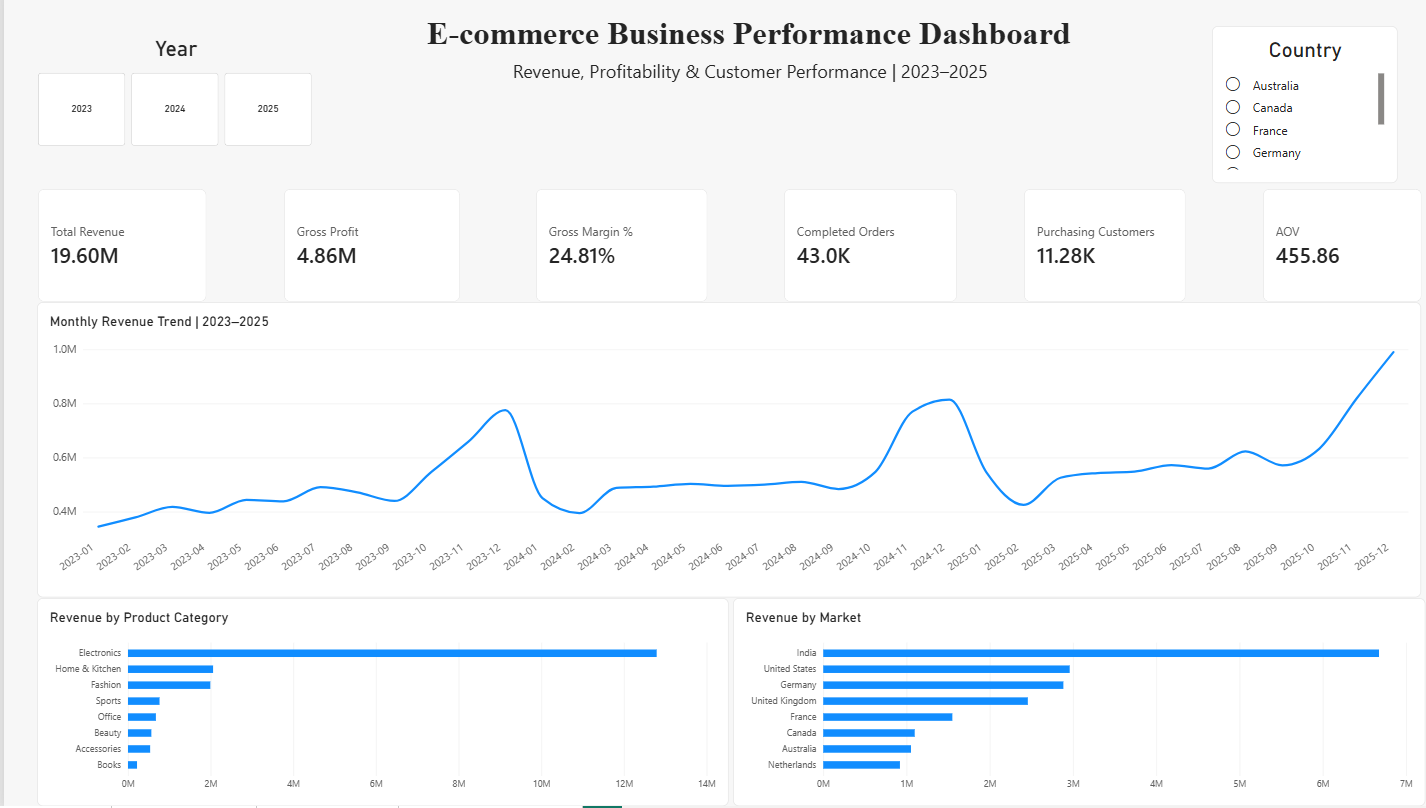

What the dashboard file says about the page in this screenshot:
{"tool":"powerbi","page":{"name":"Executive Overview","canvas":[1920,1080],"ordinal":0},"visuals":[{"type":"textbox","box":[435.5,27.4,1111.5,57.9],"z":0},{"type":"textbox","box":[589.2,85.3,807,62.4],"z":1000},{"type":"cardVisual","fields":{"Data":["_Measures.Total Revenue"]},"box":[45.4,259.4,224.7,150.3],"z":2000},{"type":"cardVisual","fields":{"Data":["_Measures.Gross Profit"]},"box":[372.2,259.4,234.9,150.3],"z":3000},{"type":"cardVisual","fields":{"Data":["_Measures.Gross Margin %"]},"box":[708,258.8,228.4,150.7],"z":4000},{"type":"cardVisual","fields":{"Data":["_Measures.Completed Orders"]},"box":[1037.5,259.4,230.5,150.3],"z":5000},{"type":"cardVisual","fields":{"Data":["_Measures.Purchasing Customers"]},"box":[1357,259.4,215.9,150.3],"z":6000},{"type":"cardVisual","fields":{"Data":["_Measures.AOV"]},"box":[1675.1,259.4,211.6,150.3],"z":7000},{"type":"lineChart","title":"Monthly Revenue Trend | 2023–2025","fields":{"Category":["DateTable.Year Month"],"Y":["_Measures.Total Revenue"]},"box":[44.2,409.6,1840.8,392.8],"z":8000},{"type":"barChart","title":"Revenue by Product Category","fields":{"Category":["products.category"],"Y":["_Measures.Total Revenue"]},"box":[44.2,802.9,919.7,277.1],"z":9000},{"type":"barChart","title":"Revenue by Market","fields":{"Category":["orders.shipping_country"],"Y":["_Measures.Total Revenue"]},"box":[969.9,802.9,921.2,277.1],"z":10000},{"type":"listSlicer","title":"Country","fields":{"Values":["orders.shipping_country"]},"box":[1606.3,42.6,246.7,208.6],"z":11000},{"type":"advancedSlicerVisual","fields":{"Values":["DateTable.Year"]},"box":[45.7,56.3,366.9,146.2],"z":12000}]}

Visuals, with their boxes in screenshot pixels (x1, y1, x2, y2), scaled from the page's 1920x1080 canvas onto the 1426x808 screenshot:
textbox: x1=323 y1=20 x2=1149 y2=64
textbox: x1=438 y1=64 x2=1037 y2=111
cardVisual - _Measures.Total Revenue: x1=34 y1=194 x2=201 y2=307
cardVisual - _Measures.Gross Profit: x1=276 y1=194 x2=451 y2=307
cardVisual - _Measures.Gross Margin %: x1=526 y1=194 x2=695 y2=306
cardVisual - _Measures.Completed Orders: x1=771 y1=194 x2=942 y2=307
cardVisual - _Measures.Purchasing Customers: x1=1008 y1=194 x2=1168 y2=307
cardVisual - _Measures.AOV: x1=1244 y1=194 x2=1401 y2=307
"Monthly Revenue Trend | 2023–2025" lineChart: x1=33 y1=306 x2=1400 y2=600
"Revenue by Product Category" barChart: x1=33 y1=601 x2=716 y2=807
"Revenue by Market" barChart: x1=720 y1=601 x2=1405 y2=807
"Country" listSlicer: x1=1193 y1=32 x2=1376 y2=188
advancedSlicerVisual - DateTable.Year: x1=34 y1=42 x2=306 y2=152
